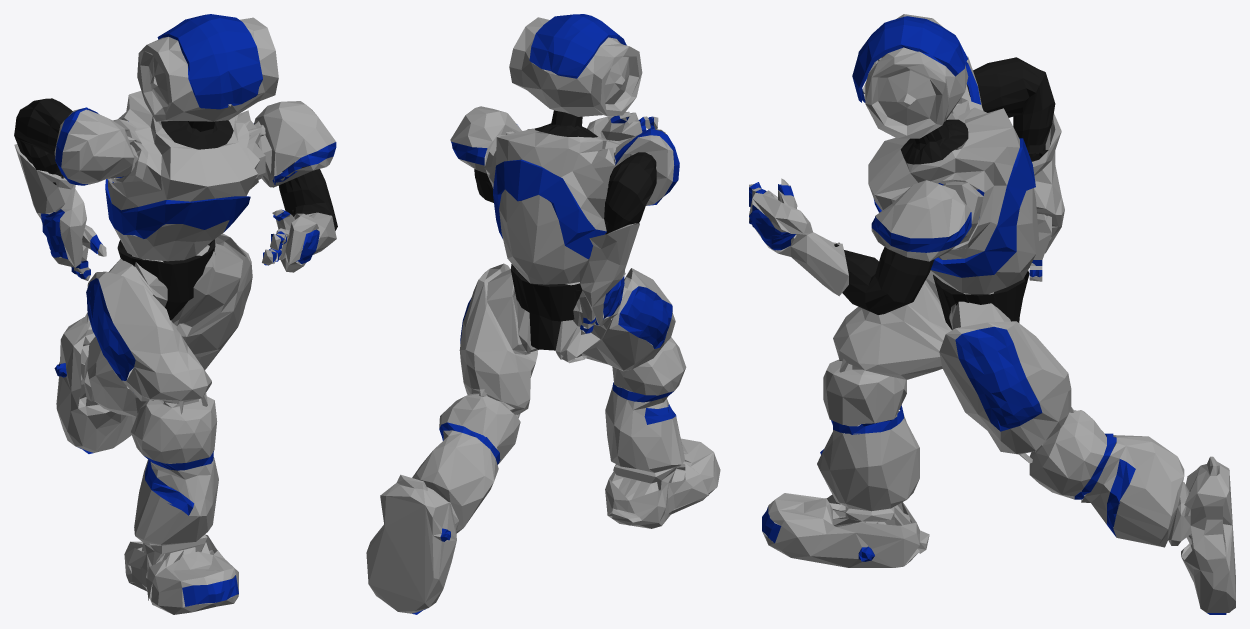
The model's file is run18.obj.
3 renders of one model, left to right at view 1: azimuth 30°, elevation 25°; view 2: azimuth 150°, elevation 25°; view 3: azimuth 270°, elevation 25°, orthographic. The views are drawn at different scales.
Parts seen in each view (by area): view 1: Robot2.001_Robot2Mesh.000, Robot2_Robot2Mesh.004, Robot2.002_Robot2Mesh.001; view 2: Robot2.001_Robot2Mesh.000, Robot2_Robot2Mesh.004, Robot2.002_Robot2Mesh.001; view 3: Robot2.001_Robot2Mesh.000, Robot2_Robot2Mesh.004, Robot2.002_Robot2Mesh.001.
Part boxes in pixels (x1,y1,x2,y2): Robot2.001_Robot2Mesh.000: (14, 17, 336, 614); Robot2_Robot2Mesh.004: (41, 14, 336, 606); Robot2.002_Robot2Mesh.001: (14, 98, 337, 320); Robot2.001_Robot2Mesh.000: (366, 17, 720, 613); Robot2_Robot2Mesh.004: (412, 14, 679, 614); Robot2.002_Robot2Mesh.001: (474, 110, 656, 350); Robot2.001_Robot2Mesh.000: (749, 14, 1235, 613); Robot2_Robot2Mesh.004: (749, 16, 1226, 614); Robot2.002_Robot2Mesh.001: (834, 57, 1055, 329).
Size of the model in its own units: 0.96 by 1.96 by 1.51.
